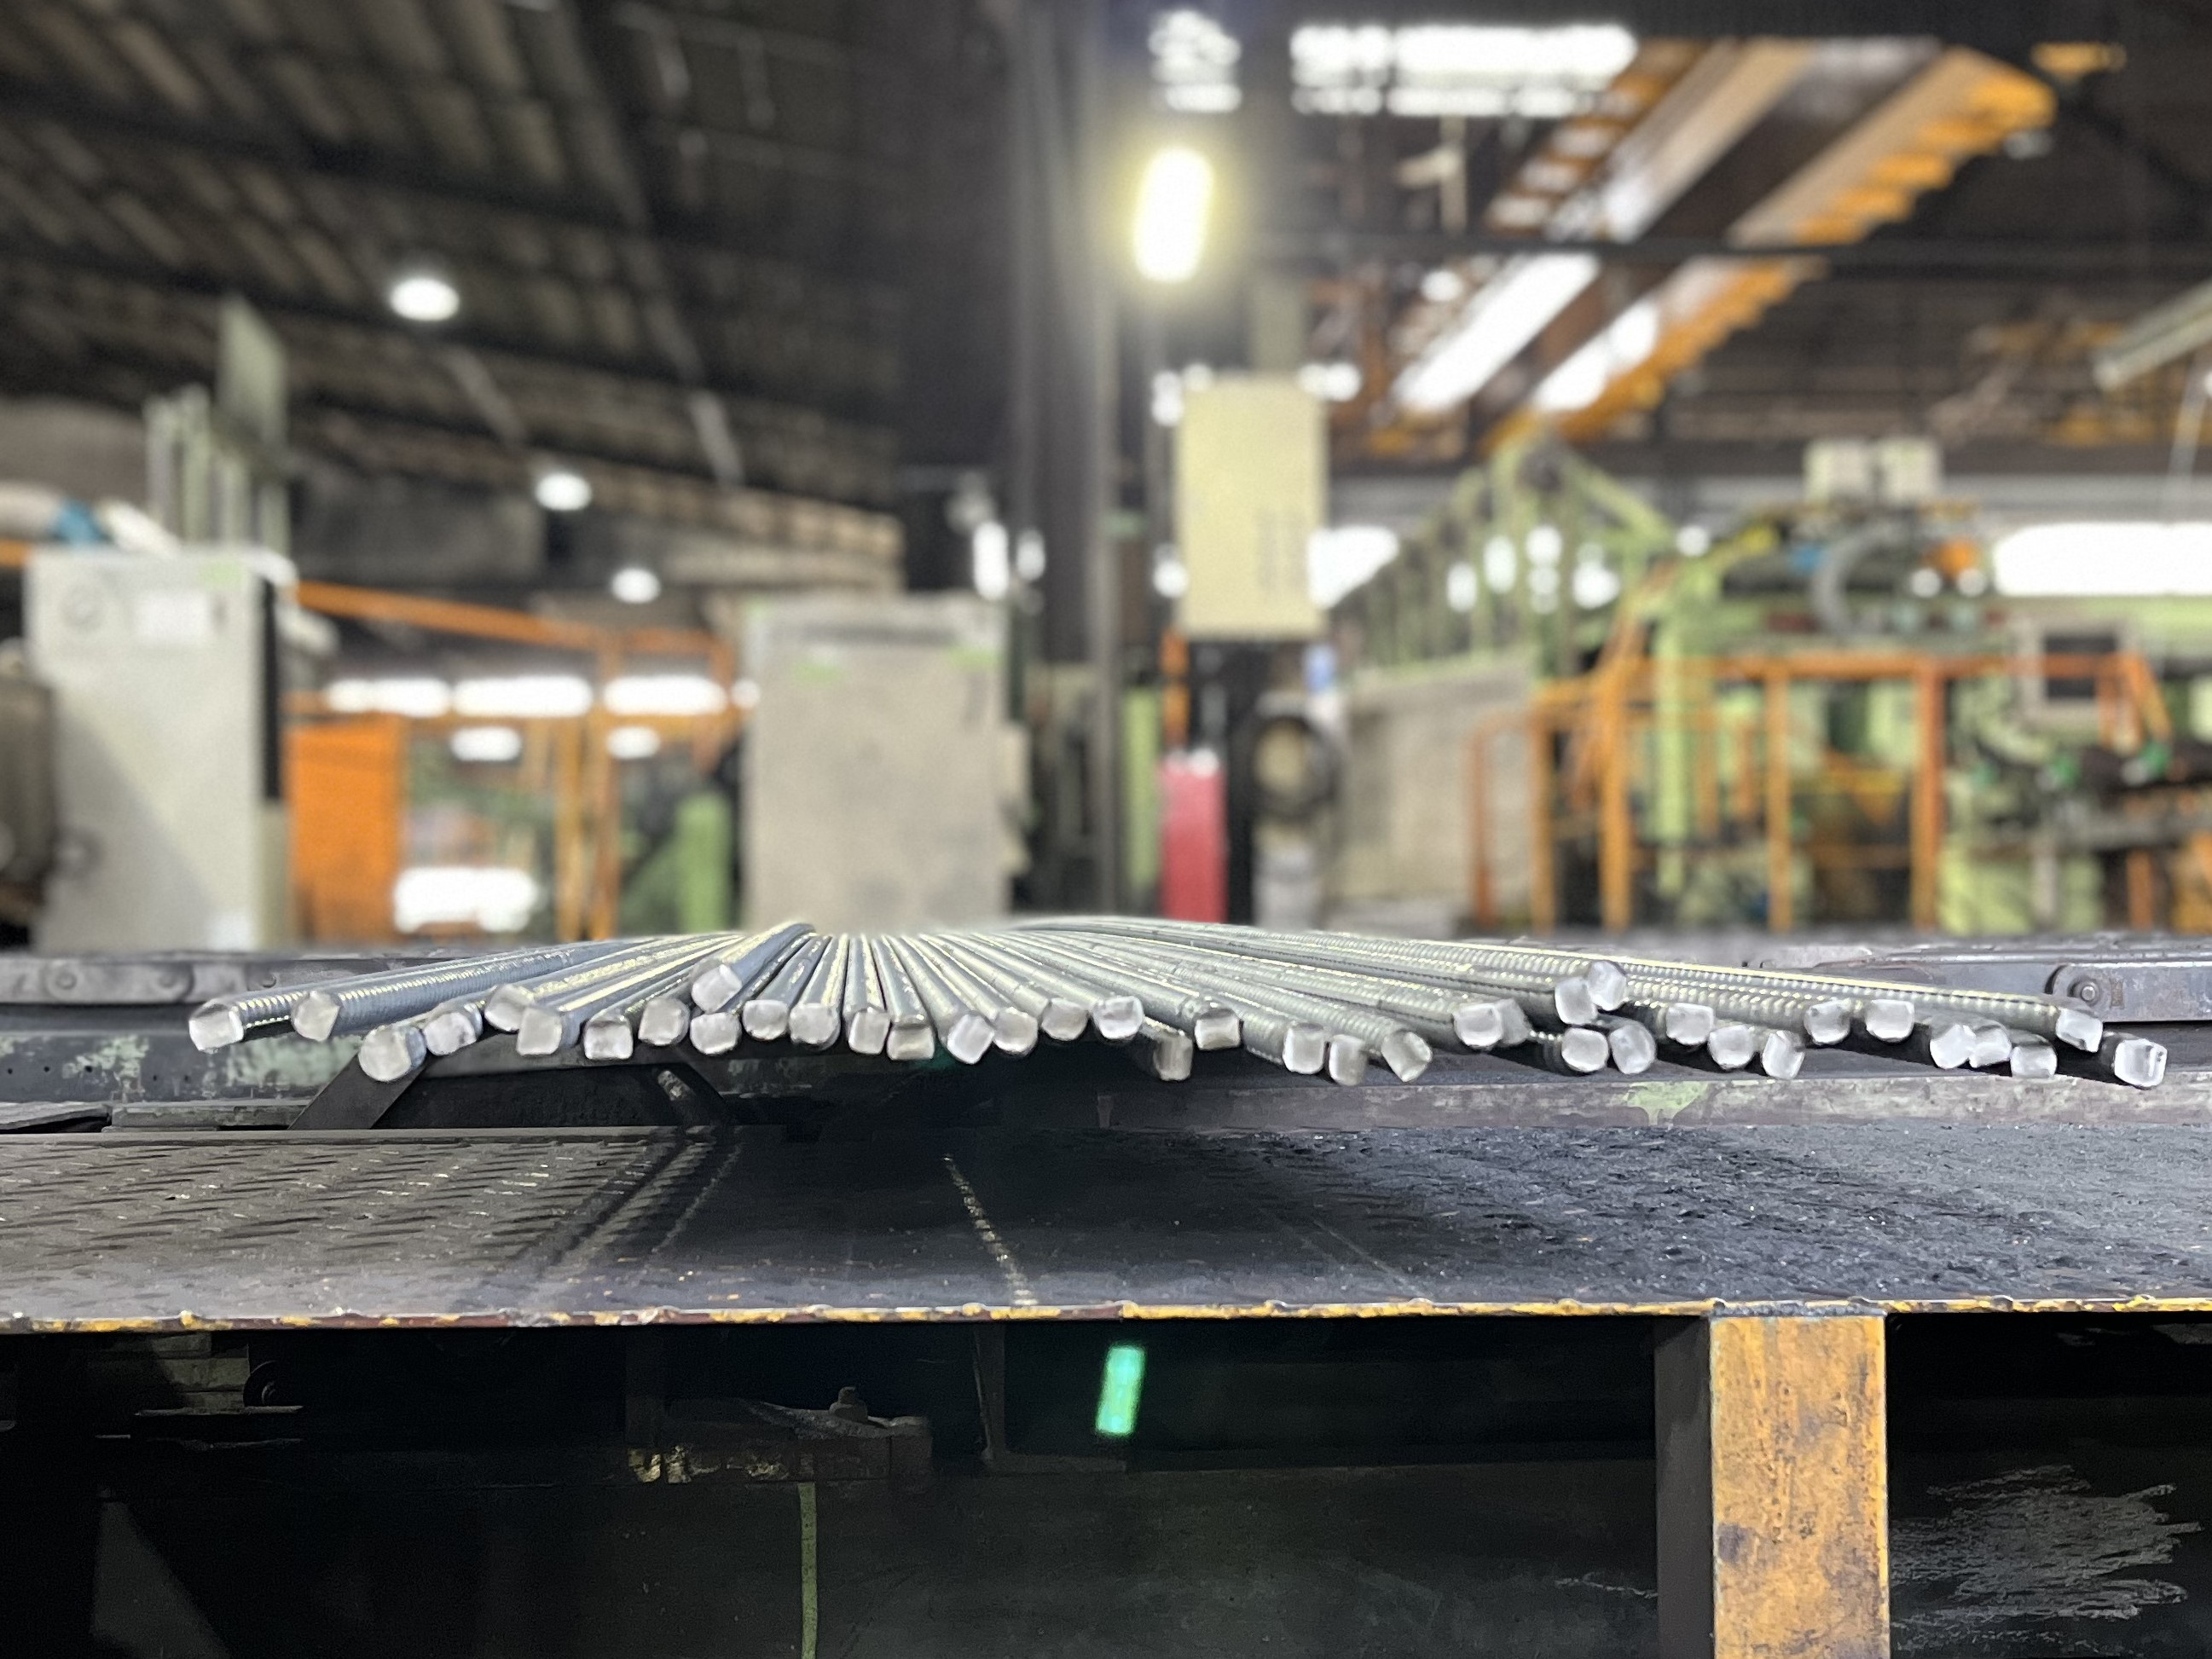rod: (356, 1021, 417, 1084), (183, 1000, 248, 1054), (636, 993, 690, 1049), (1379, 1026, 1433, 1082), (943, 1012, 997, 1066), (289, 988, 342, 1044), (420, 1009, 479, 1058), (580, 1012, 636, 1063), (1091, 992, 1147, 1042), (687, 962, 739, 1014), (786, 1002, 840, 1053), (1663, 999, 1717, 1049), (1801, 997, 1856, 1046), (1609, 1021, 1659, 1073), (479, 983, 533, 1032), (514, 1004, 563, 1058), (687, 1009, 741, 1058), (1279, 1021, 1328, 1075), (1761, 1026, 1809, 1080), (1450, 1002, 1506, 1049), (990, 1006, 1041, 1056), (1926, 1019, 1977, 1070), (1149, 1030, 1196, 1084), (1584, 958, 1632, 1012), (1551, 976, 1600, 1026), (2053, 1007, 2104, 1056), (1558, 1026, 1611, 1073), (1863, 997, 1916, 1044), (1192, 1004, 1243, 1051), (1041, 995, 1089, 1042), (885, 1019, 938, 1063), (1327, 1032, 1367, 1087), (1706, 1023, 1754, 1070), (2113, 1037, 2156, 1087), (847, 1006, 889, 1058), (739, 999, 790, 1040), (2008, 1039, 2059, 1080), (1968, 1023, 2013, 1068), (1494, 997, 1536, 1046)
